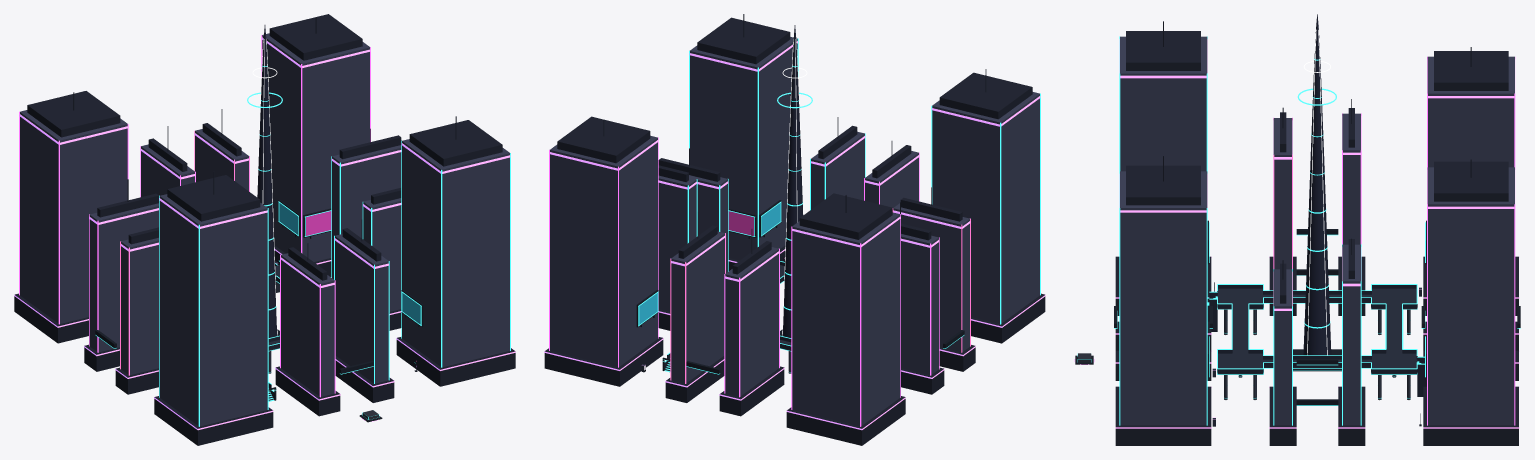
3 views of the same model, side by side, from view 1: azimuth 30°, elevation 25°; view 2: azimuth 150°, elevation 25°; view 3: azimuth 270°, elevation 25° (orthographic). The views are drawn at different scales.
Parts seen in each view (by area): view 1: district_city_cero.lod1; view 2: district_city_cero.lod1; view 3: district_city_cero.lod1.
Boxes of the visible parts, left/top/right/bottom form: district_city_cero.lod1: left=14, top=14, right=515, bottom=445; district_city_cero.lod1: left=544, top=14, right=1045, bottom=445; district_city_cero.lod1: left=1074, top=14, right=1520, bottom=445.
Bounding box in the file's own units: 97.84 × 92.01 × 107.
